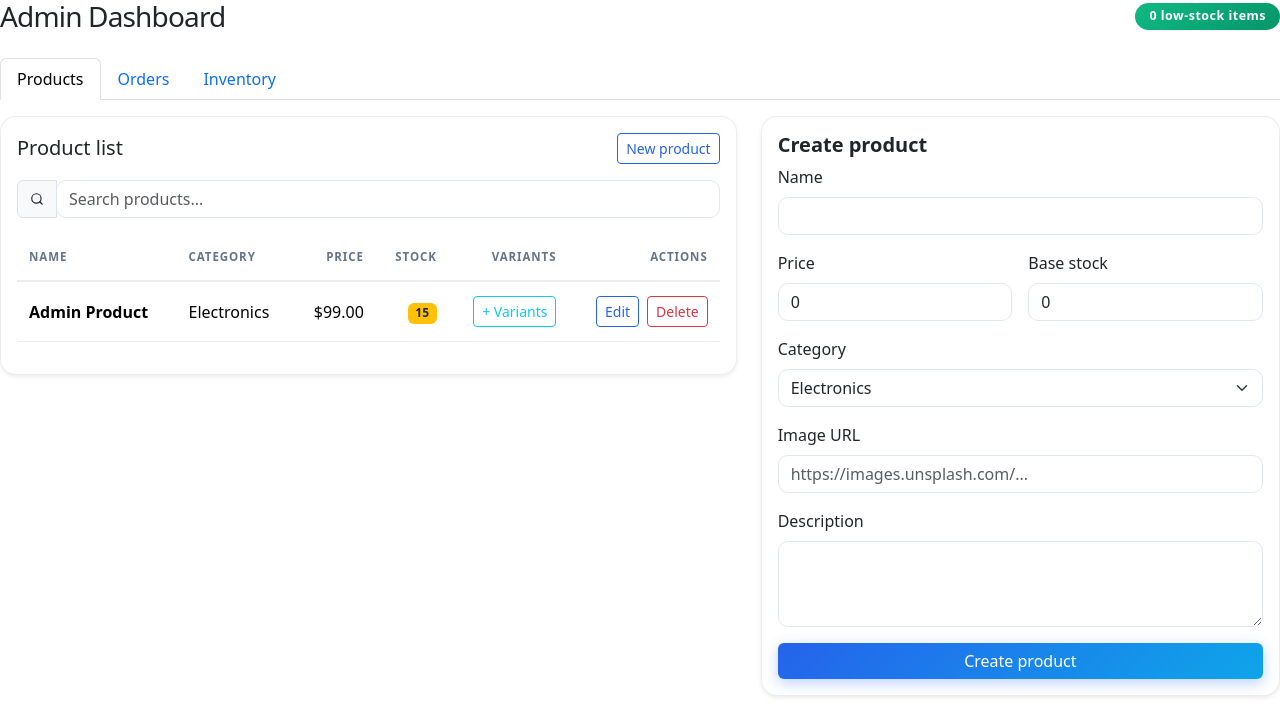
it: AdminDashboardPage › "Manage variants" button opens VariantManagerModal
This screenshot has width=1280, height=720.
What coordinates should you click on to do the following:
click the button with aria-label "manage variants for admin product"
I would click on:
 (515, 312)
Its box is [473, 296, 556, 327].
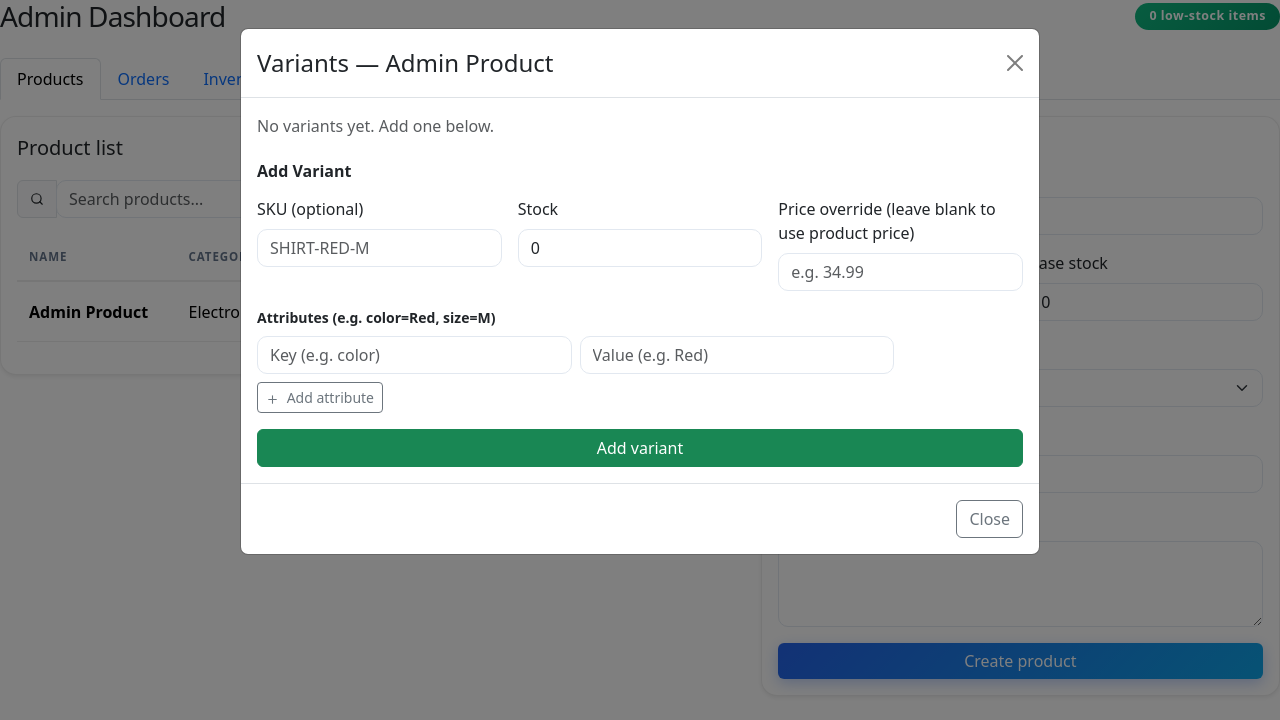
Check: the text "Variants — Admin Product" is shown, box [257, 45, 554, 81]
